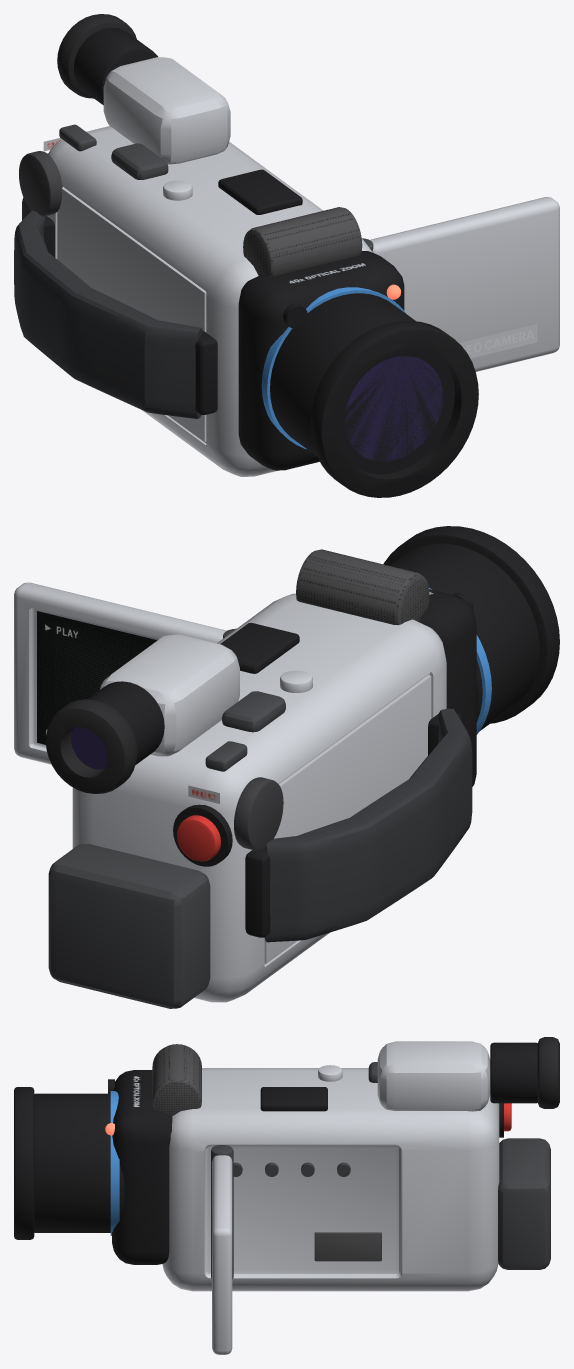
The model's file is Camcorder.fbx.
The picture shows the model from 3 angles, top to bottom: view 1: azimuth 30°, elevation 25°; view 2: azimuth 150°, elevation 25°; view 3: azimuth 270°, elevation 25°; orthographic projection. The views are drawn at different scales.
Visible parts, largest first — view 1: Body, Panel, Handle; view 2: Body, Handle, Panel, Screen; view 3: Body, Panel.
Boxes of the visible parts, left/top/right/bottom form: Body: left=19, top=14, right=478, bottom=497; Panel: left=362, top=197, right=559, bottom=371; Handle: left=14, top=210, right=202, bottom=418; Body: left=45, top=526, right=559, bottom=1008; Handle: left=264, top=708, right=472, bottom=942; Panel: left=14, top=582, right=236, bottom=764; Screen: left=37, top=611, right=157, bottom=744; Body: left=14, top=1037, right=559, bottom=1291; Panel: left=211, top=1145, right=233, bottom=1354.
Bounding box in the file's own units: 0.5362 × 0.3383 × 0.7072.
Materials: 6 (4 with a texture image).
